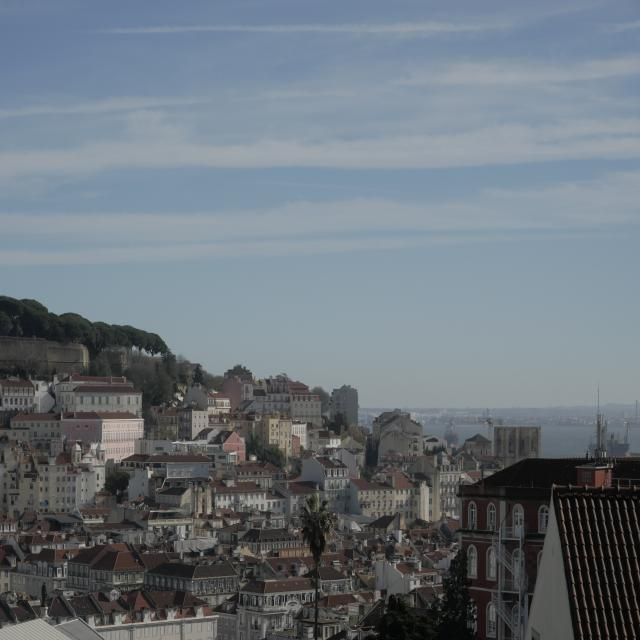building: (462, 456, 640, 640), (117, 454, 271, 517), (20, 516, 146, 587), (350, 515, 442, 607), (6, 404, 147, 464), (0, 440, 106, 507), (239, 571, 339, 640), (231, 522, 351, 570), (244, 368, 323, 429), (150, 551, 238, 604), (155, 378, 228, 440), (344, 467, 419, 523), (58, 374, 142, 419), (372, 412, 428, 464), (488, 421, 542, 460), (328, 380, 364, 432)
